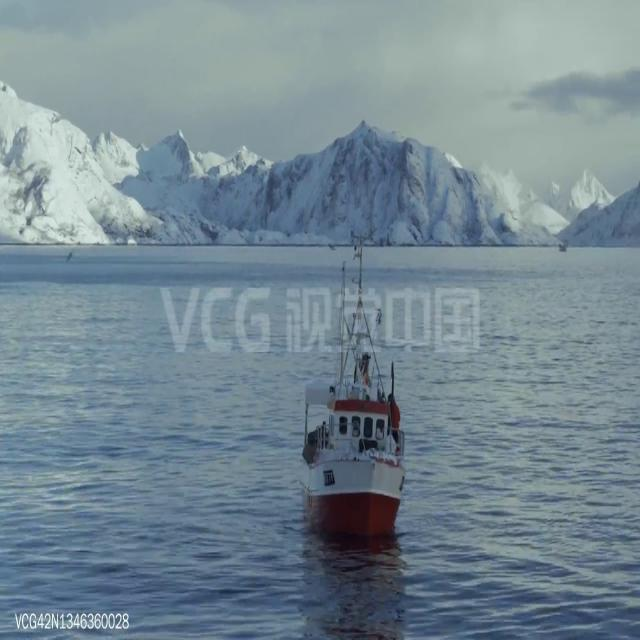houseboat: (303, 242, 406, 534)
